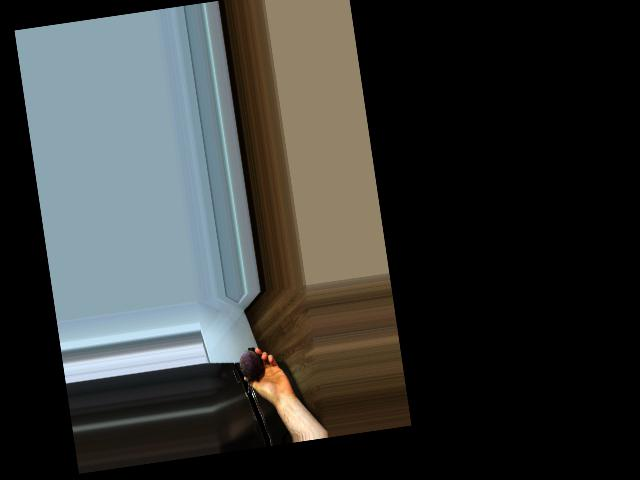beet: (238, 345, 265, 393)
